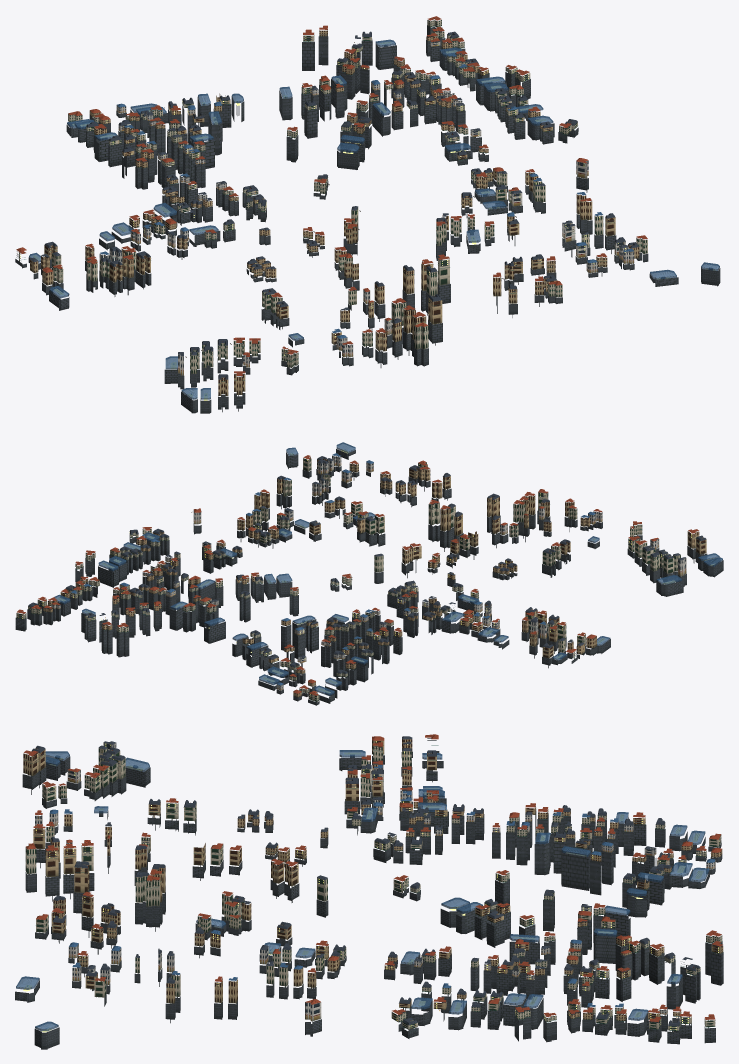
The model's file is osm_buildings_T_E00_N01_Q1.glb.
3 renders of one model, top to bottom at view 1: azimuth 30°, elevation 25°; view 2: azimuth 150°, elevation 25°; view 3: azimuth 270°, elevation 25°, orthographic. The views are drawn at different scales.
Visible parts, largest first — view 1: OSM_PBR_T_E00_N01_Q1_foundation, OSM_PBR_T_E00_N01_Q1_wall_french_ochre, OSM_PBR_T_E00_N01_Q1_wall_cream_stucco, OSM_PBR_T_E00_N01_Q1_greenhouse_blend, OSM_PBR_T_E00_N01_Q1_roof_terracotta, OSM_PBR_T_E00_N01_Q1_roof_mansard_slate, OSM_PBR_T_E00_N01_Q1_wall_warm_white, OSM_PBR_T_E00_N01_Q1_roof_mansard_deck, OSM_PBR_T_E00_N01_Q1_wall_pastel_sand, OSM_PBR_T_E00_N01_Q1_trim_cornice, OSM_PBR_T_E00_N01_Q1_roof_mint_metal, OSM_PBR_T_E00_N01_Q1_roof_alpine_blue (+1 smaller); view 2: OSM_PBR_T_E00_N01_Q1_foundation, OSM_PBR_T_E00_N01_Q1_wall_french_ochre, OSM_PBR_T_E00_N01_Q1_wall_cream_stucco, OSM_PBR_T_E00_N01_Q1_greenhouse_blend, OSM_PBR_T_E00_N01_Q1_roof_terracotta, OSM_PBR_T_E00_N01_Q1_roof_mansard_slate, OSM_PBR_T_E00_N01_Q1_wall_warm_white, OSM_PBR_T_E00_N01_Q1_roof_mansard_deck, OSM_PBR_T_E00_N01_Q1_wall_pastel_sand, OSM_PBR_T_E00_N01_Q1_roof_mint_metal, OSM_PBR_T_E00_N01_Q1_roof_alpine_blue, OSM_PBR_T_E00_N01_Q1_window_emissive_warm (+1 smaller); view 3: OSM_PBR_T_E00_N01_Q1_foundation, OSM_PBR_T_E00_N01_Q1_wall_french_ochre, OSM_PBR_T_E00_N01_Q1_wall_cream_stucco, OSM_PBR_T_E00_N01_Q1_greenhouse_blend, OSM_PBR_T_E00_N01_Q1_roof_terracotta, OSM_PBR_T_E00_N01_Q1_roof_mansard_slate, OSM_PBR_T_E00_N01_Q1_roof_mansard_deck, OSM_PBR_T_E00_N01_Q1_wall_warm_white, OSM_PBR_T_E00_N01_Q1_balcony_railing, OSM_PBR_T_E00_N01_Q1_trim_cornice, OSM_PBR_T_E00_N01_Q1_roof_mint_metal, OSM_PBR_T_E00_N01_Q1_roof_alpine_blue (+2 smaller).
Part boxes in pixels (x1,y1,x2,y2): OSM_PBR_T_E00_N01_Q1_foundation: [15, 25, 720, 413]; OSM_PBR_T_E00_N01_Q1_wall_french_ochre: [30, 29, 639, 395]; OSM_PBR_T_E00_N01_Q1_wall_cream_stucco: [19, 20, 647, 373]; OSM_PBR_T_E00_N01_Q1_greenhouse_blend: [29, 39, 719, 399]; OSM_PBR_T_E00_N01_Q1_roof_terracotta: [16, 16, 647, 375]; OSM_PBR_T_E00_N01_Q1_roof_mansard_slate: [30, 32, 638, 379]; OSM_PBR_T_E00_N01_Q1_wall_warm_white: [99, 41, 634, 375]; OSM_PBR_T_E00_N01_Q1_roof_mansard_deck: [40, 31, 718, 399]; OSM_PBR_T_E00_N01_Q1_wall_pastel_sand: [146, 90, 628, 357]; OSM_PBR_T_E00_N01_Q1_trim_cornice: [20, 20, 646, 379]; OSM_PBR_T_E00_N01_Q1_roof_mint_metal: [16, 26, 647, 383]; OSM_PBR_T_E00_N01_Q1_roof_alpine_blue: [100, 53, 633, 338]; OSM_PBR_T_E00_N01_Q1_foundation: [15, 449, 723, 705]; OSM_PBR_T_E00_N01_Q1_wall_french_ochre: [43, 458, 706, 697]; OSM_PBR_T_E00_N01_Q1_wall_cream_stucco: [16, 457, 680, 701]; OSM_PBR_T_E00_N01_Q1_greenhouse_blend: [54, 442, 722, 695]; OSM_PBR_T_E00_N01_Q1_roof_terracotta: [17, 455, 698, 695]; OSM_PBR_T_E00_N01_Q1_roof_mansard_slate: [28, 457, 706, 673]; OSM_PBR_T_E00_N01_Q1_wall_warm_white: [51, 455, 686, 690]; OSM_PBR_T_E00_N01_Q1_roof_mansard_deck: [29, 447, 718, 695]; OSM_PBR_T_E00_N01_Q1_wall_pastel_sand: [142, 460, 602, 663]; OSM_PBR_T_E00_N01_Q1_roof_mint_metal: [17, 462, 706, 701]; OSM_PBR_T_E00_N01_Q1_roof_alpine_blue: [71, 453, 595, 685]; OSM_PBR_T_E00_N01_Q1_window_emissive_warm: [22, 450, 713, 696]; OSM_PBR_T_E00_N01_Q1_foundation: [15, 751, 723, 1049]; OSM_PBR_T_E00_N01_Q1_wall_french_ochre: [23, 739, 723, 1020]; OSM_PBR_T_E00_N01_Q1_wall_cream_stucco: [25, 746, 722, 1031]; OSM_PBR_T_E00_N01_Q1_greenhouse_blend: [16, 750, 709, 1031]; OSM_PBR_T_E00_N01_Q1_roof_terracotta: [24, 734, 722, 1024]; OSM_PBR_T_E00_N01_Q1_roof_mansard_slate: [32, 736, 700, 1030]; OSM_PBR_T_E00_N01_Q1_roof_mansard_deck: [16, 745, 704, 1029]; OSM_PBR_T_E00_N01_Q1_wall_warm_white: [49, 742, 715, 1021]; OSM_PBR_T_E00_N01_Q1_balcony_railing: [34, 738, 721, 1034]; OSM_PBR_T_E00_N01_Q1_trim_cornice: [23, 742, 721, 1027]; OSM_PBR_T_E00_N01_Q1_roof_mint_metal: [24, 745, 723, 1032]; OSM_PBR_T_E00_N01_Q1_roof_alpine_blue: [49, 765, 715, 1007].
Size of the model in its own units: 1002 by 118 by 1008.
Materials: 18 (16 with a texture image).
